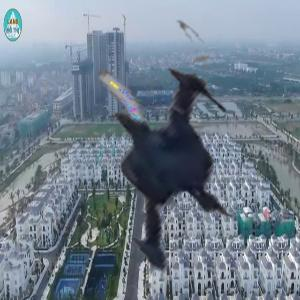drone: (28, 18, 292, 282)
